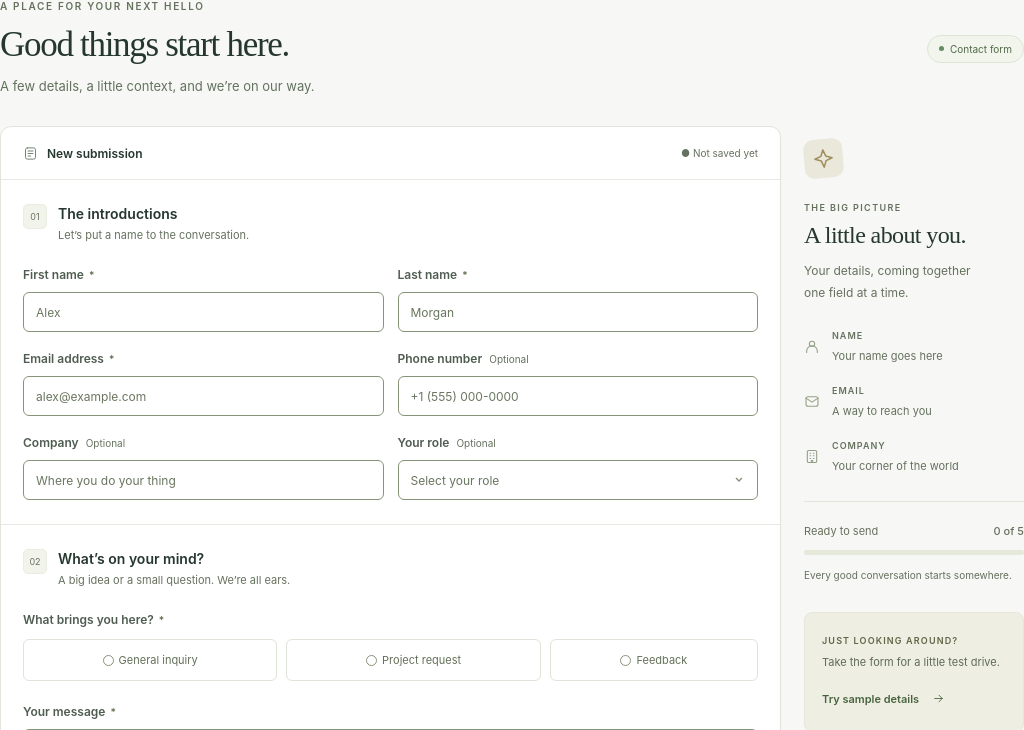
Scenario: Contact form workflows › keeps consent a deliberate choice and shows a receipt after the API accepts a submission
The width and height of the screenshot is (1024, 730).
Click the button "Try sample details": (884, 699) [822,684,945,714]
(page scrolled)
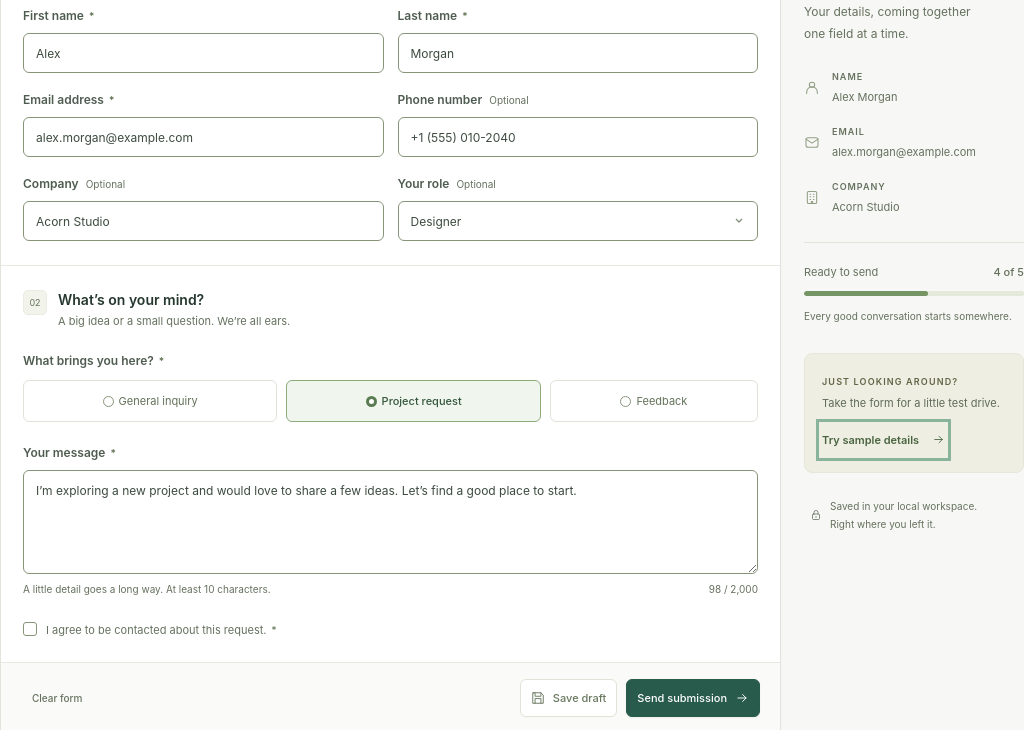
Click the checkbox labelled "I agree to be contacted about this request. *": (30, 629) [23,622,37,636]
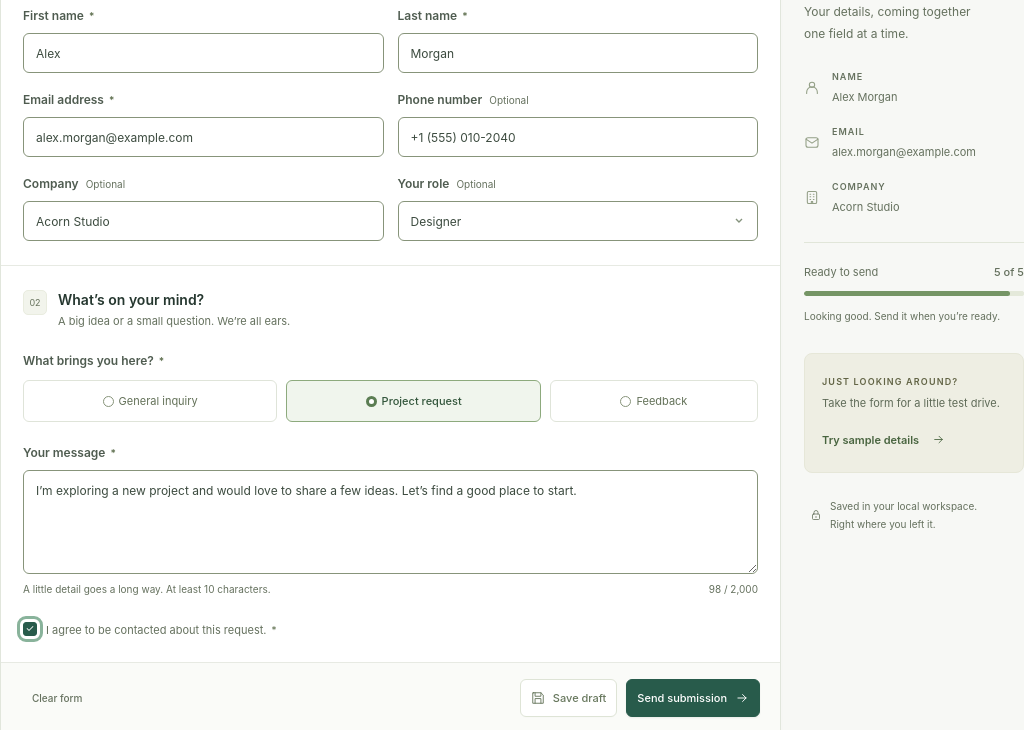
Click the button "Send submission": (693, 698) [626,679,760,717]
(page scrolled)
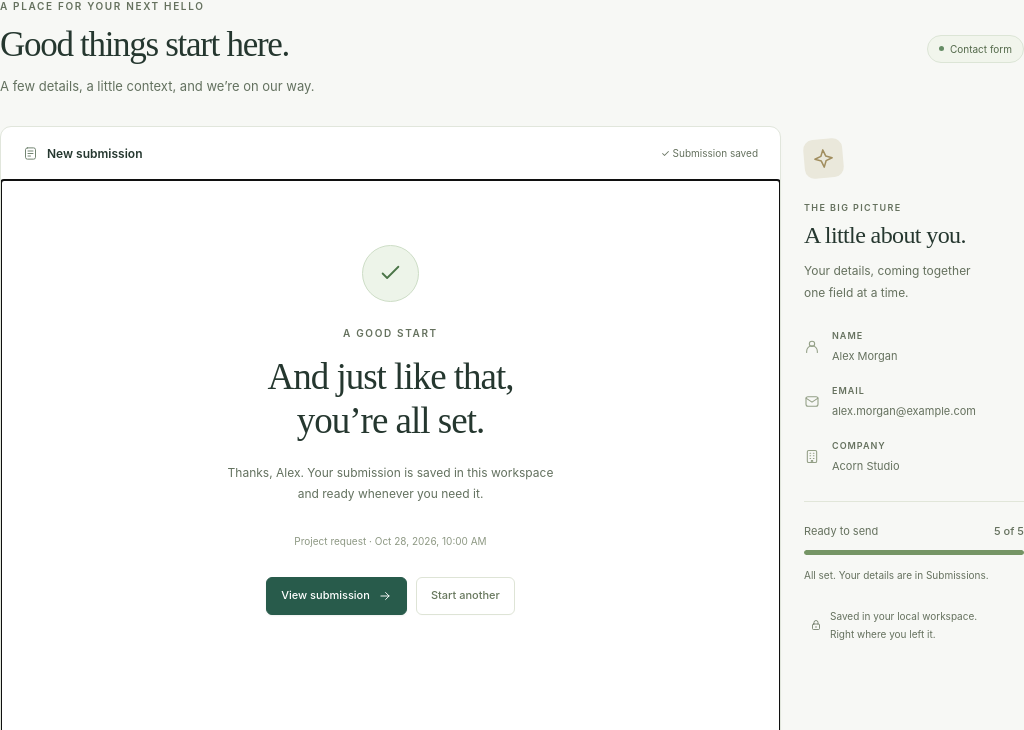
Expected: the heading "And just like that,you’re all set." is shown, [267,356,514,442]
